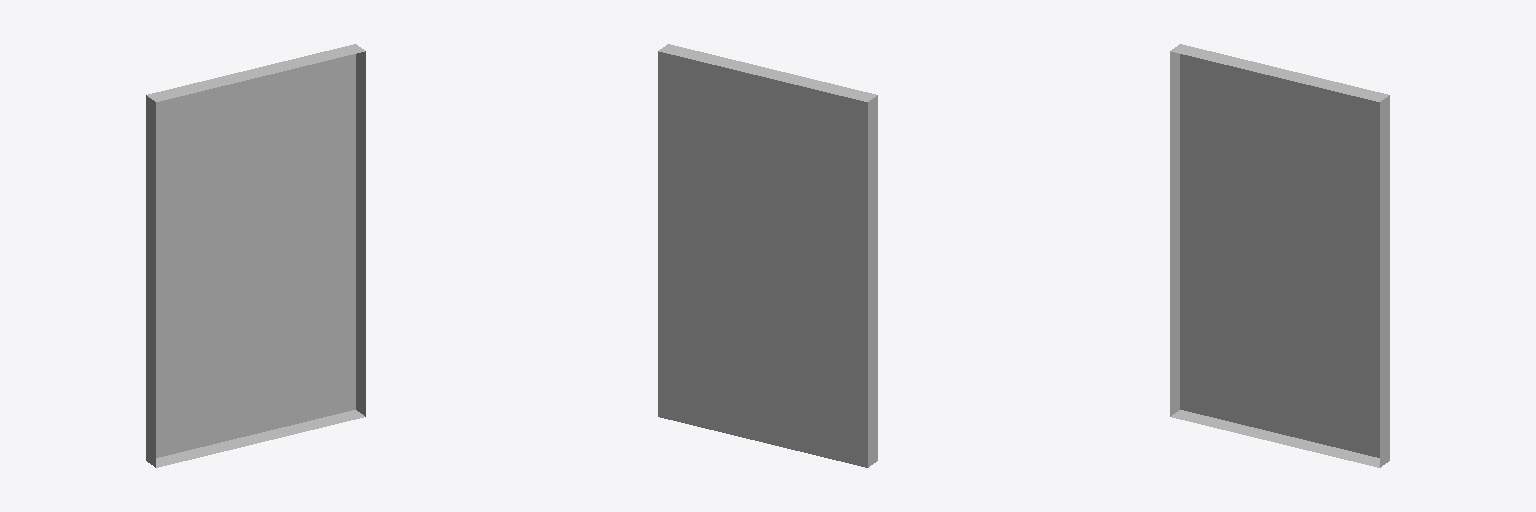
Rendered from field.obj.
3 views of the same model, side by side, from view 1: azimuth 30°, elevation 25°; view 2: azimuth 150°, elevation 25°; view 3: azimuth 330°, elevation 25° (orthographic).
Parts seen in each view (by area): view 1: Field_Plane, Left_Cube.001, Right_Cube.002, Lower_Cube.003, Upper_Cube.004; view 2: Field_Plane, Left_Cube.001, Lower_Cube.003; view 3: Field_Plane, Right_Cube.002, Left_Cube.001, Lower_Cube.003, Upper_Cube.004.
Part boxes in pixels (left/top/right/bottom): Field_Plane: left=156, top=54, right=355, bottom=457; Left_Cube.001: left=146, top=95, right=155, bottom=467; Right_Cube.002: left=356, top=51, right=365, bottom=416; Lower_Cube.003: left=147, top=44, right=364, bottom=101; Upper_Cube.004: left=156, top=410, right=364, bottom=467; Field_Plane: left=658, top=51, right=867, bottom=467; Left_Cube.001: left=868, top=95, right=877, bottom=467; Lower_Cube.003: left=659, top=44, right=876, bottom=101; Field_Plane: left=1180, top=54, right=1379, bottom=457; Right_Cube.002: left=1380, top=95, right=1389, bottom=467; Left_Cube.001: left=1170, top=51, right=1179, bottom=416; Lower_Cube.003: left=1171, top=44, right=1388, bottom=101; Upper_Cube.004: left=1171, top=410, right=1379, bottom=467.
Size of the model in its own units: 6 by 10 by 0.5.